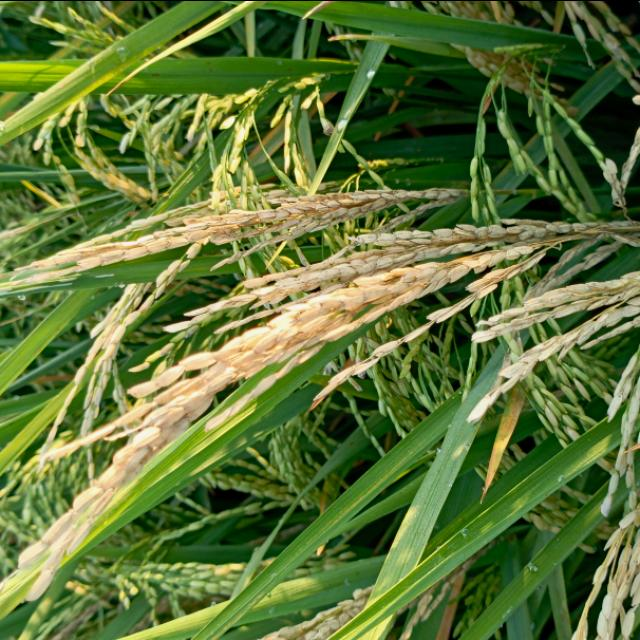Hawar Daun Bakteri: (475, 393, 532, 508), (102, 35, 197, 100), (300, 0, 384, 21), (620, 420, 640, 458)
Penggulung Daun: (238, 0, 308, 10)
